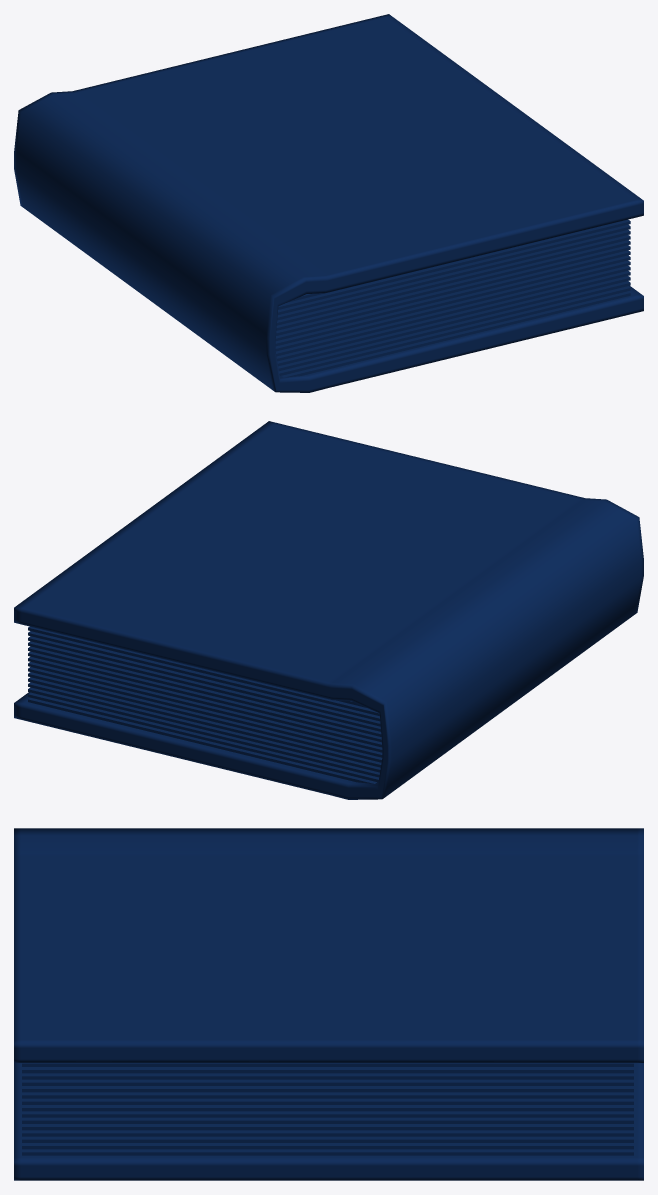
File: Book01.gltf
3 views of the same model, one above another, from view 1: azimuth 30°, elevation 25°; view 2: azimuth 150°, elevation 25°; view 3: azimuth 270°, elevation 25° (orthographic). The views are drawn at different scales.
Visible parts, largest first — view 1: book close_paper.016; view 2: book close_paper.016; view 3: book close_paper.016.
Part boxes in pixels (x1=…): book close_paper.016: x1=14, y1=14, x2=643, y2=392; book close_paper.016: x1=14, y1=421, x2=643, y2=799; book close_paper.016: x1=14, y1=828, x2=643, y2=1180.
Bounding box in the file's own units: 0.1263 × 0.0369 × 0.1488.
